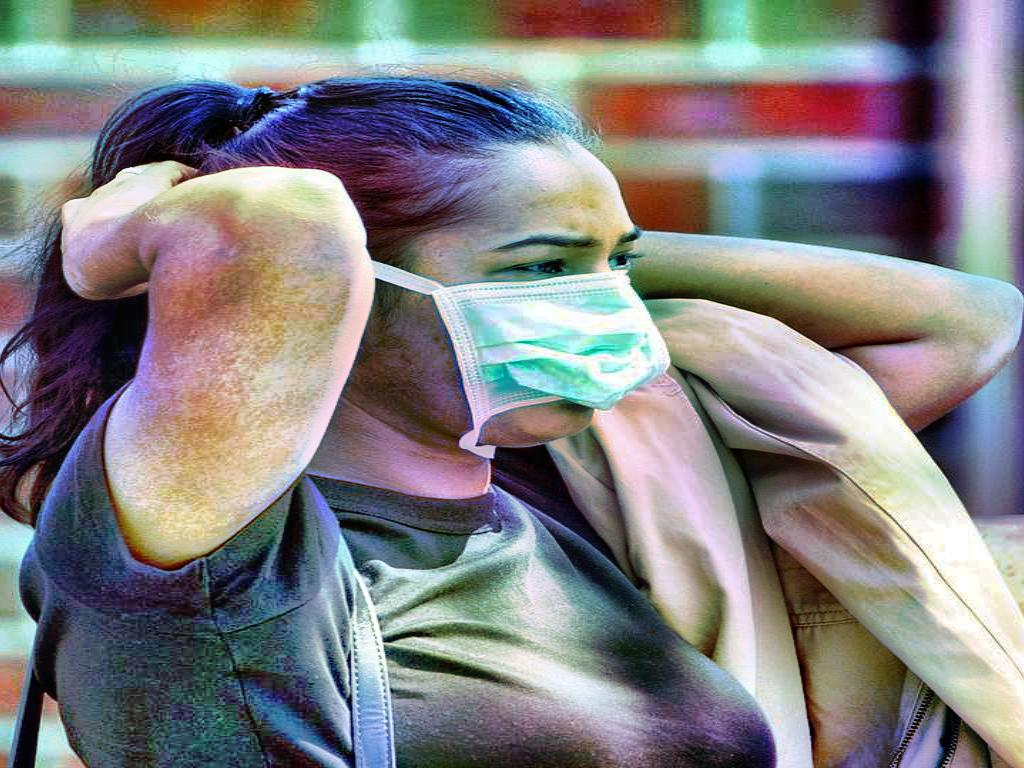mask_weared_incorrect: (199, 75, 677, 465)
